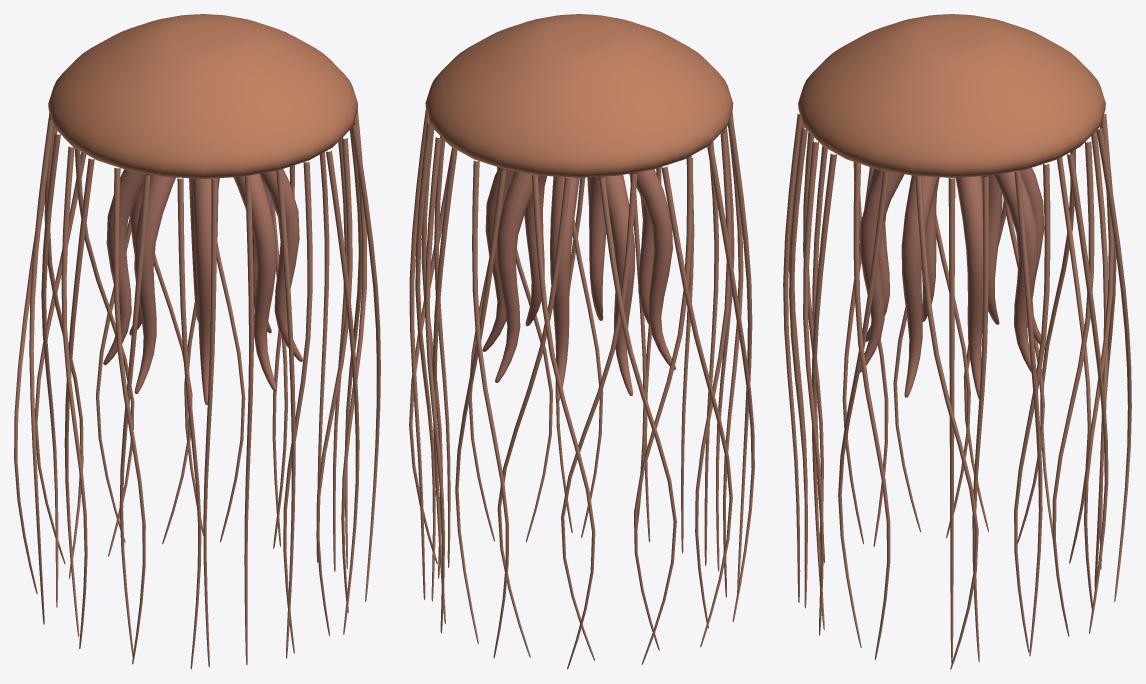
The model's file is lions_mane.glb.
3 views of the same model, side by side, from view 1: azimuth 30°, elevation 25°; view 2: azimuth 150°, elevation 25°; view 3: azimuth 270°, elevation 25° (orthographic).
Visible parts, largest first — view 1: lions_mane; view 2: lions_mane; view 3: lions_mane.
Part boxes in pixels (x1,y1,x2,y2): lions_mane: [14, 14, 380, 669]; lions_mane: [409, 14, 754, 669]; lions_mane: [783, 14, 1131, 669].
Size of the model in its own units: 1.23 by 2.09 by 1.17.
